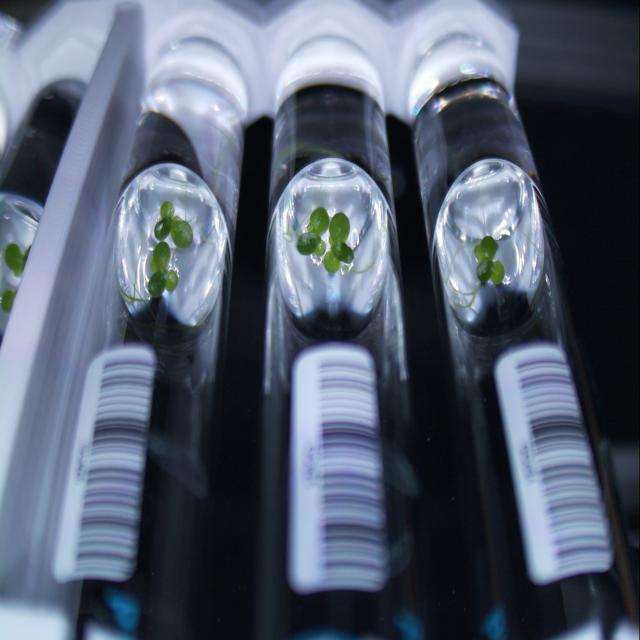Lemna-Gibba: (154, 200, 194, 248), (324, 212, 354, 274), (148, 240, 179, 299), (296, 207, 330, 257), (474, 235, 505, 285)
